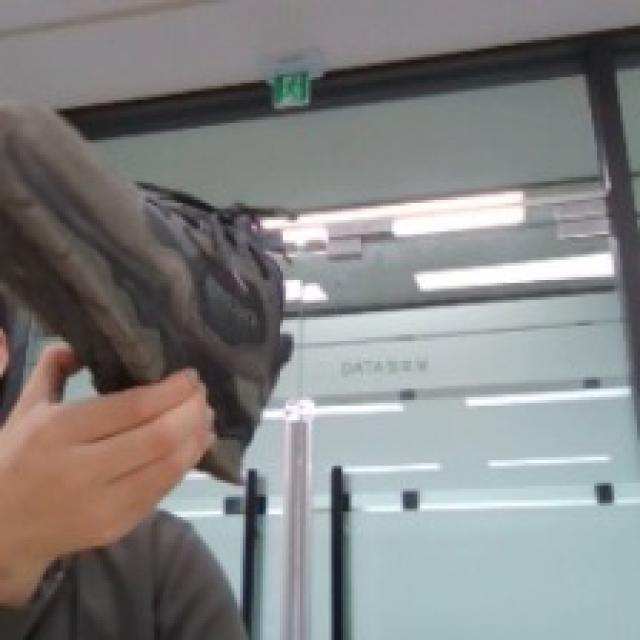shoe: (0, 95, 295, 479)
